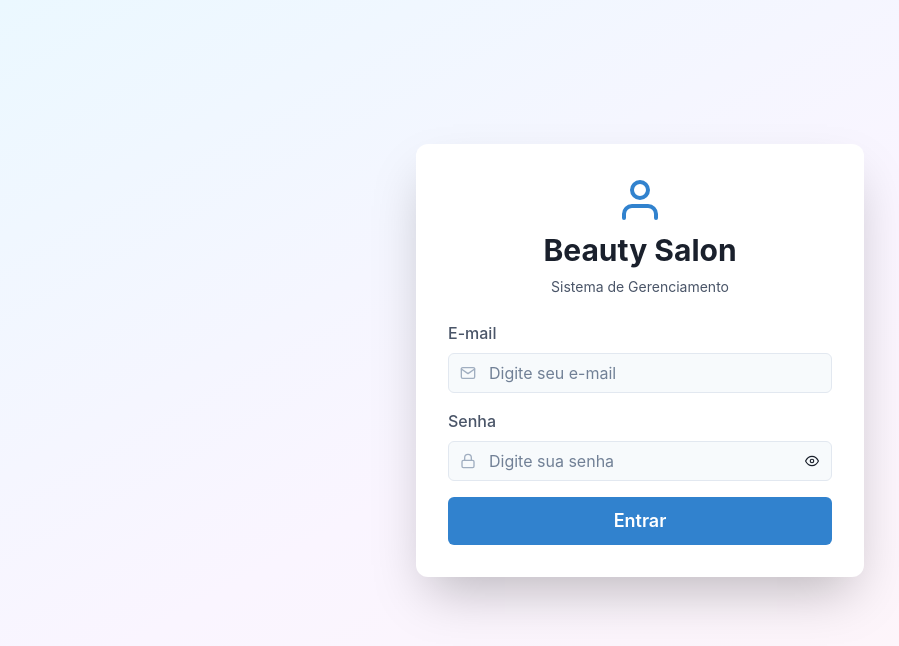
🔐 Login - Autenticação › ✅ Validação de Formulário › T007: Deve validar tamanho mínimo da senha
The width and height of the screenshot is (899, 646).
Type "admin@beautysalon.com" into the field with placeholder "Digite seu e-mail".
click(640, 372); type("admin@beautysalon.com")  # box x1=448 y1=352 x2=832 y2=392
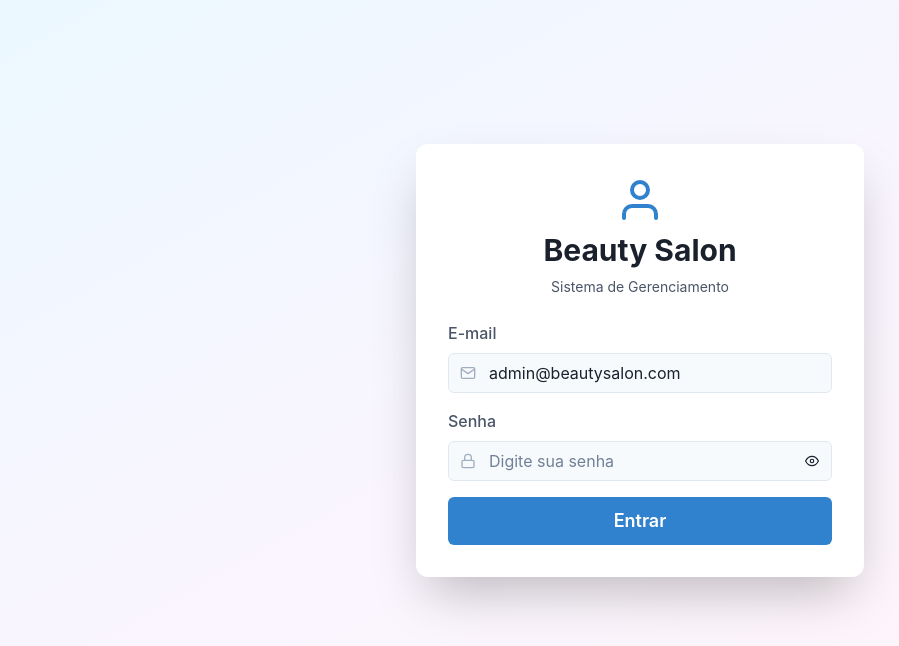
Type "123" into the password field with placeholder "Digite sua senha".
click(640, 460); type("123")  # box x1=448 y1=440 x2=832 y2=480
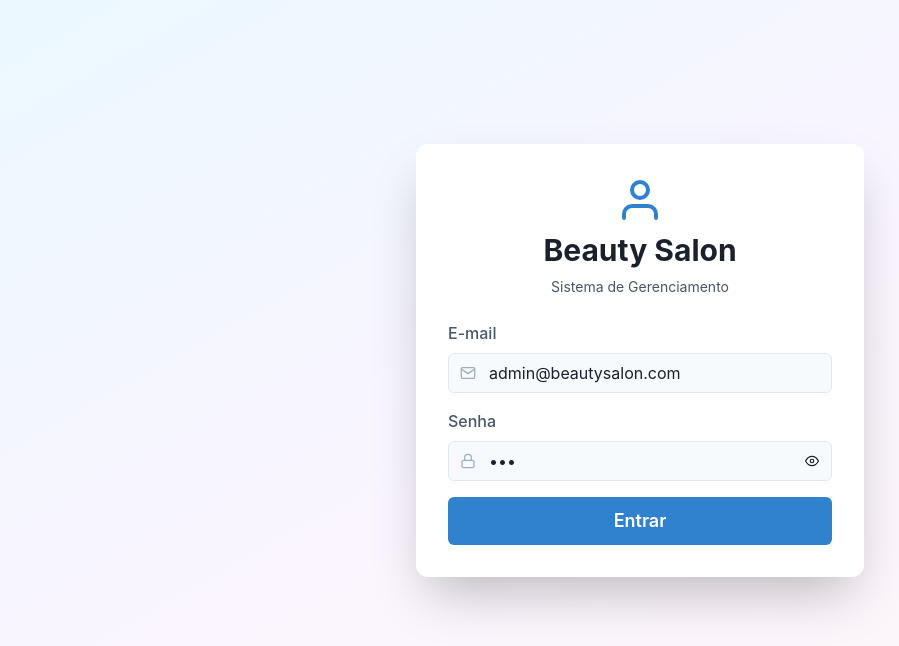
Click the button "Entrar".
click(640, 520)  # box x1=448 y1=496 x2=832 y2=544
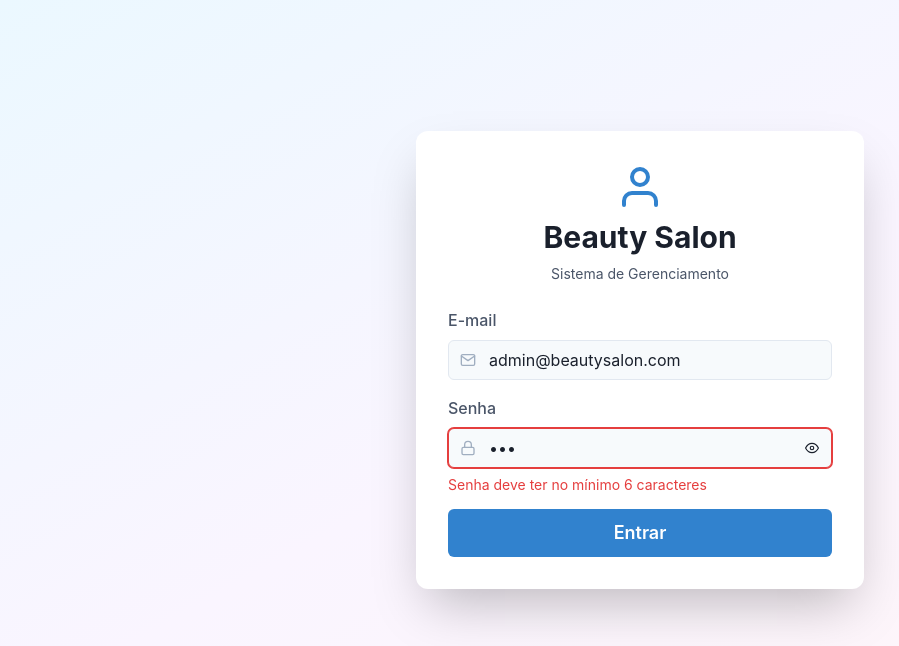
Check: the text "Senha deve ter no mínimo 6 caracteres" is shown, box x1=448 y1=476 x2=707 y2=493
